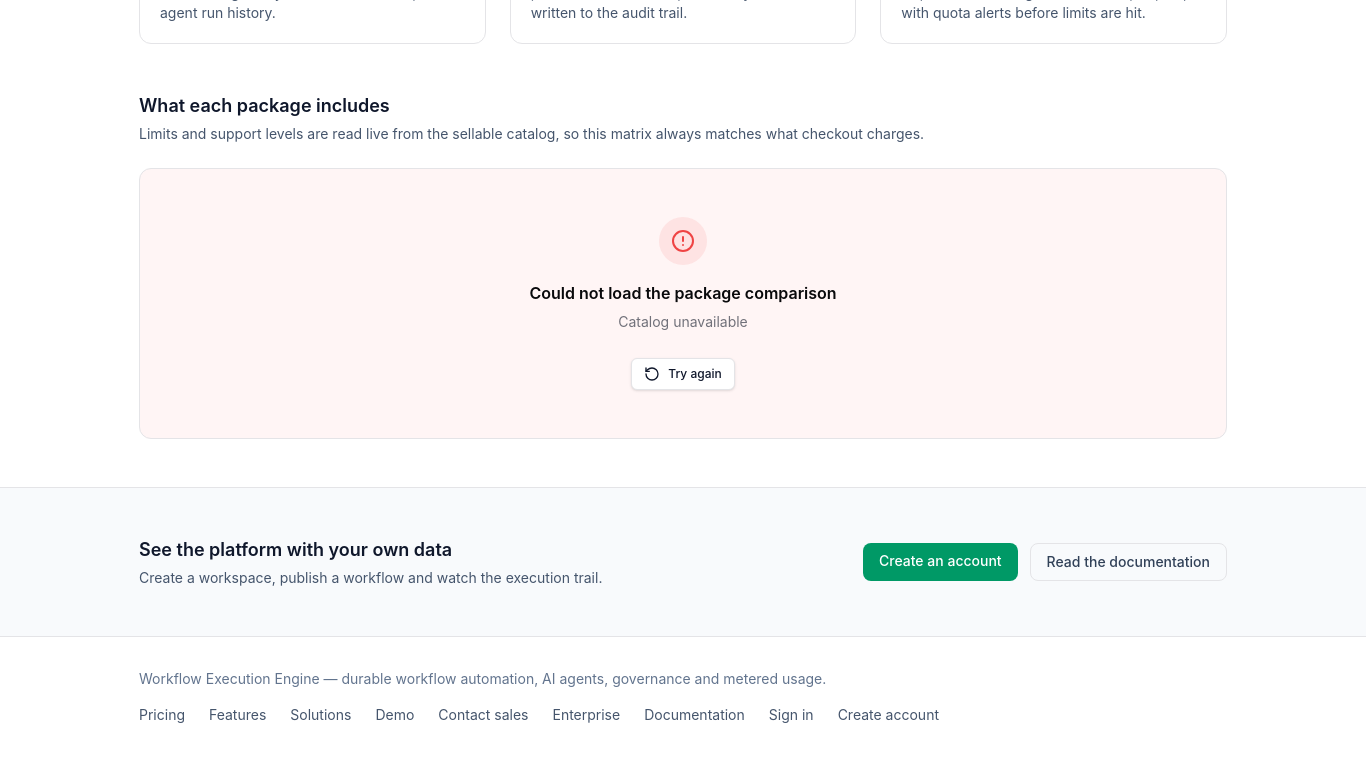
it: Phase 15.1 features matrix › shows an error state with a retry when the catalog fails
This screenshot has width=1366, height=757.
(page scrolled)
Check: the text "Catalog unavailable" is shown, box [618,311,748,334]
Step 1. Click the button "Try again" → (683, 374), box [631,358,735,390]
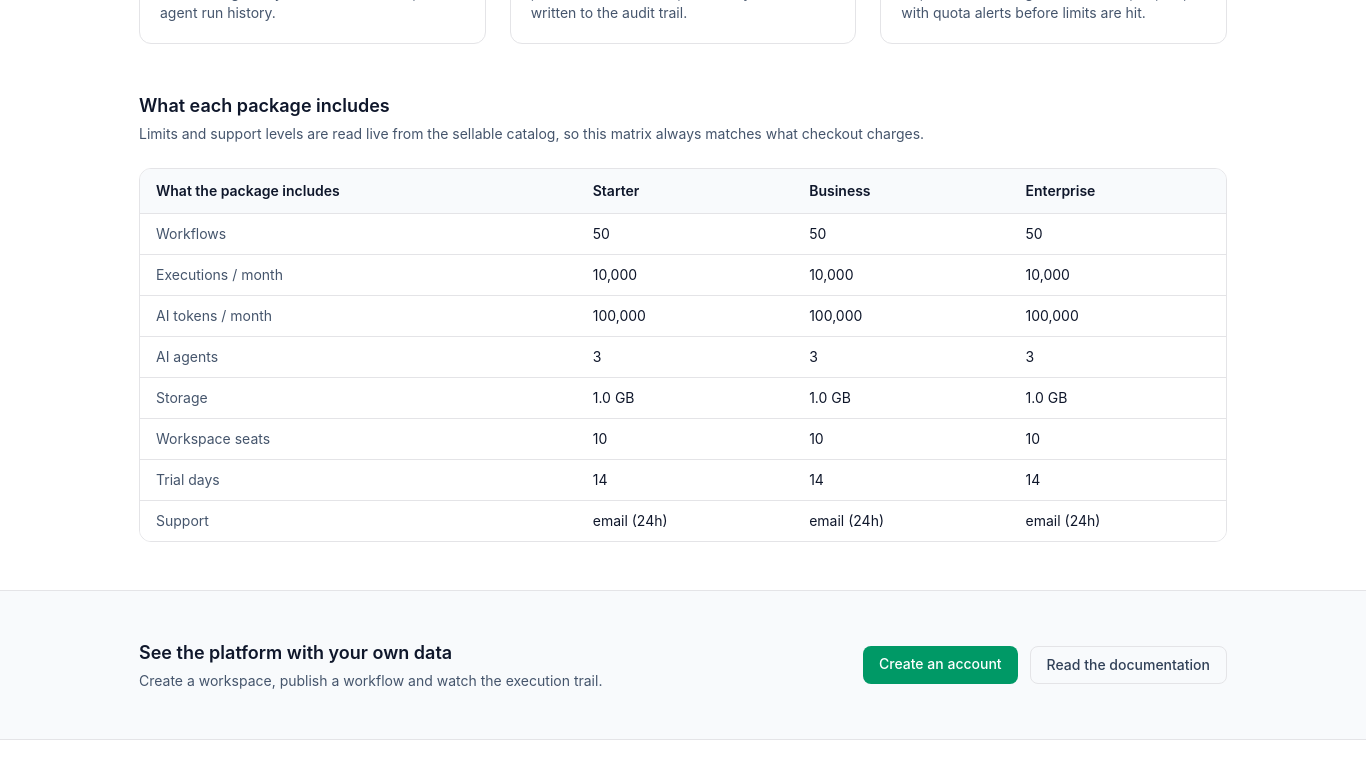
Check: the column heading "Executions / month" is shown, box [140,254,577,296]
